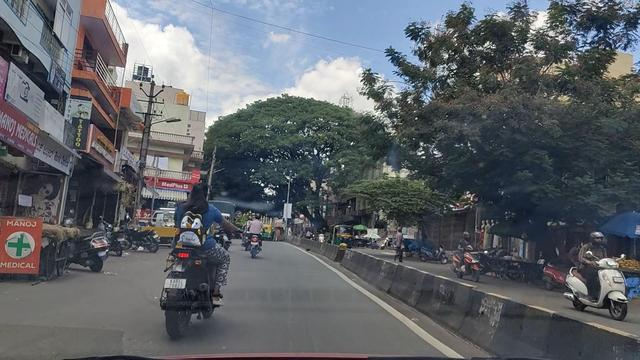LMV: (150, 188, 232, 341)
RoadDamages: (7, 313, 148, 360)
